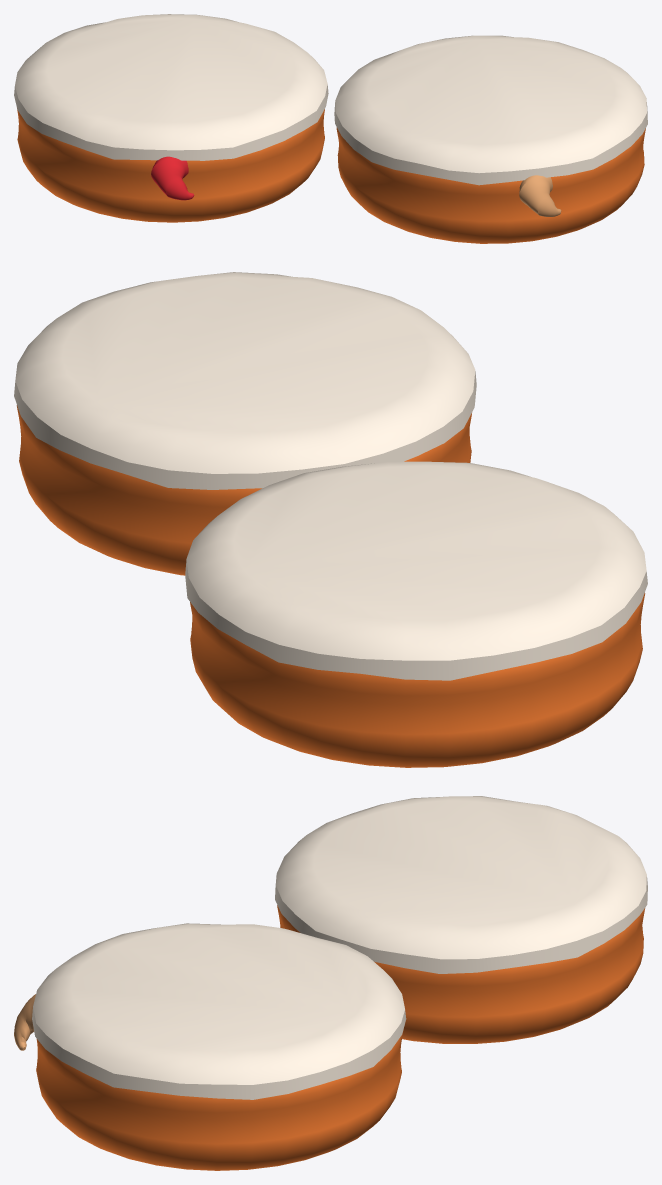
File: jelly_filled.fbx
The picture shows the model from 3 angles, top to bottom: view 1: azimuth 30°, elevation 25°; view 2: azimuth 150°, elevation 25°; view 3: azimuth 270°, elevation 25°; orthographic projection. The views are drawn at different scales.
Visible parts, largest first — view 1: jelly-filled.003; view 2: jelly-filled.003; view 3: jelly-filled.003.
Part boxes in pixels (x1,y1,x2,y2): jelly-filled.003: [14, 14, 647, 243]; jelly-filled.003: [14, 272, 647, 767]; jelly-filled.003: [14, 796, 647, 1170].
Bounding box in the file's own units: 305 × 59.62 × 287.
